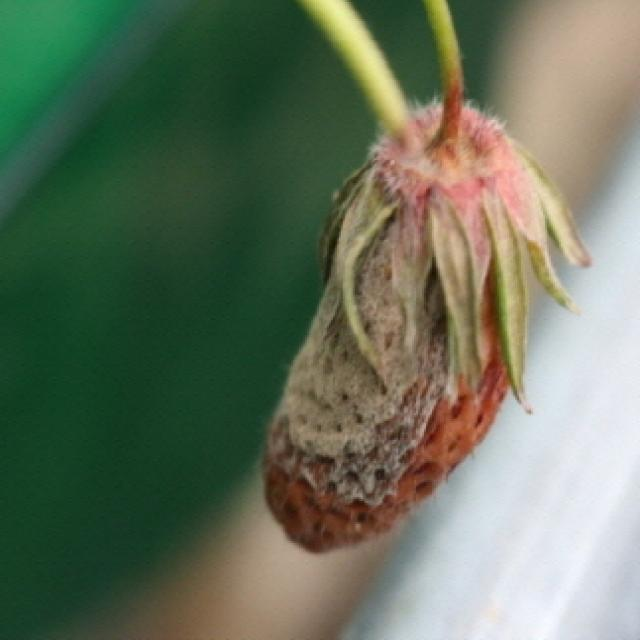Gray Mold: (261, 84, 593, 552)
